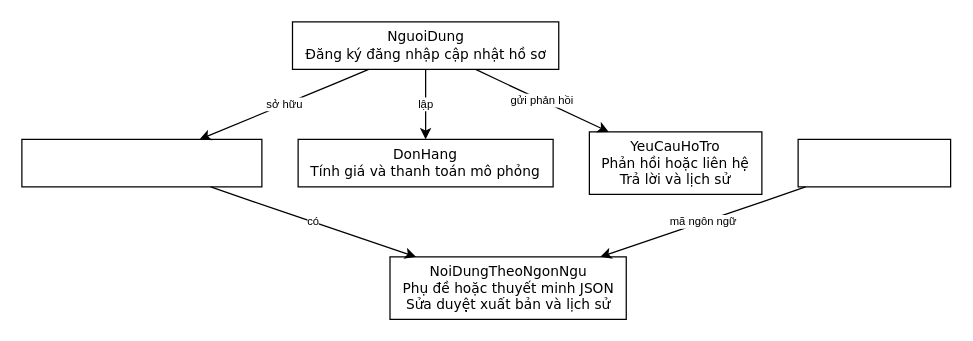
The diagram is 973 pixels wide and 341 high, and some of its shapes have lost their labels. The shapes that lost their labels are listed below. From the top down, each one's centre as x and y in pixels, then its label:
the point at 141,162: Video Tải tệp lưu kết quả đọc phát lại
the point at 874,162: DanhMucNgonNgu Thêm sửa bật tắt
